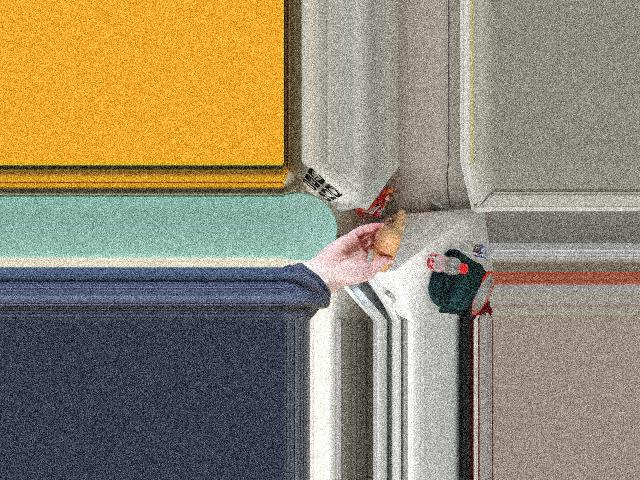sweet_potato: (374, 226, 401, 265)
